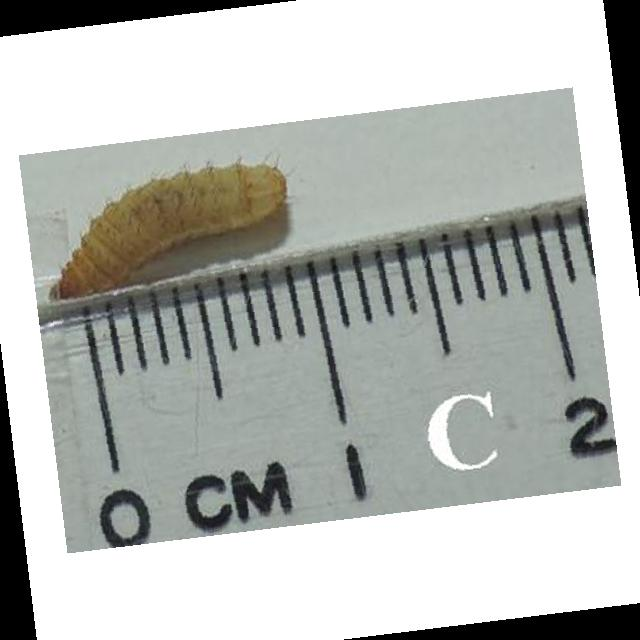Maggot: (48, 161, 290, 299)
